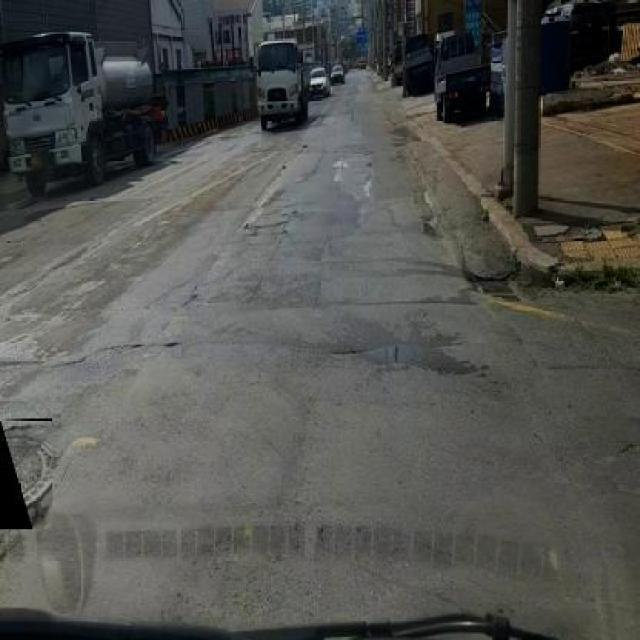Manhole: (0, 418, 52, 529), (471, 279, 521, 303)
Pothole: (251, 220, 293, 238), (418, 222, 444, 242), (162, 337, 182, 351)
